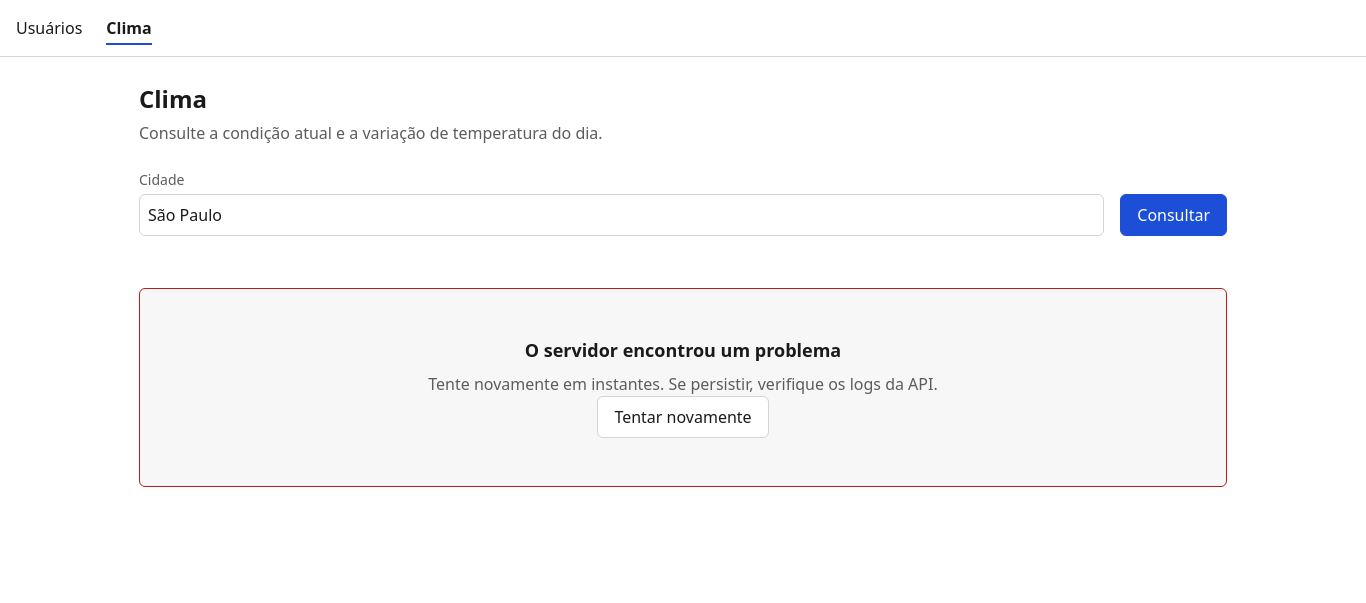
Test: falha do serviço › repetir recupera a tela quando o serviço volta
Check: the message is shown, box [139,288,1227,487]
Click the button "Tentar novamente" at point(683, 417), box [597,396,769,438]
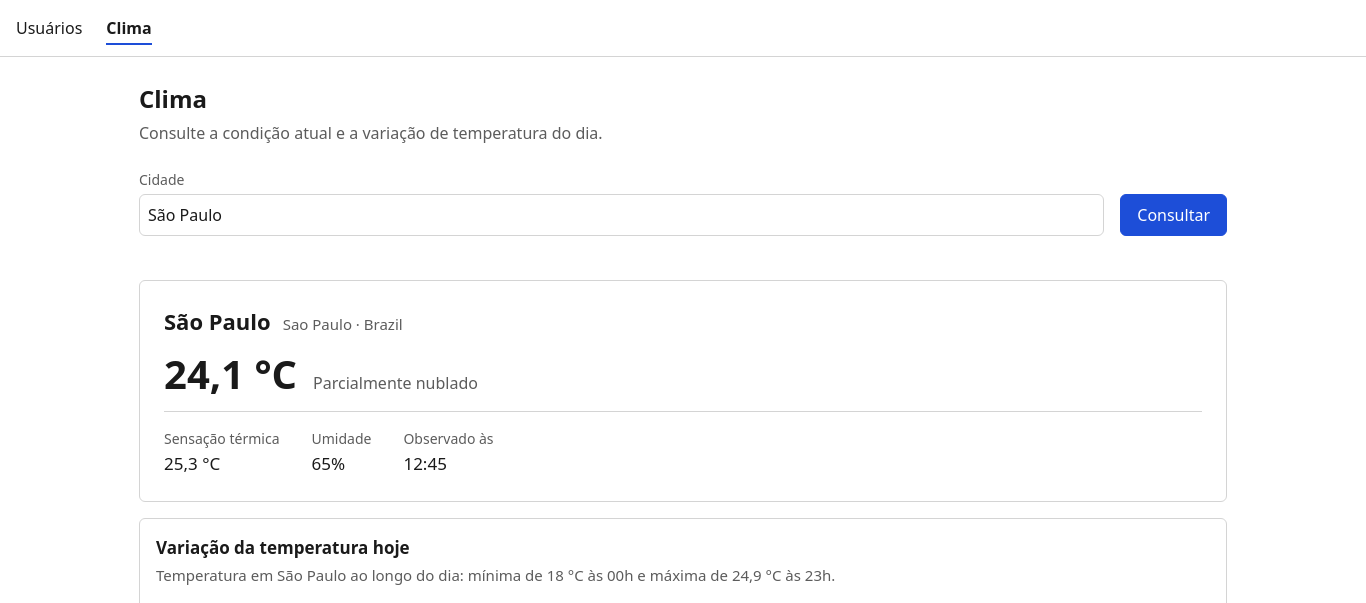
Check: the text "24,1 °C" is shown, box [164,354,297,394]
